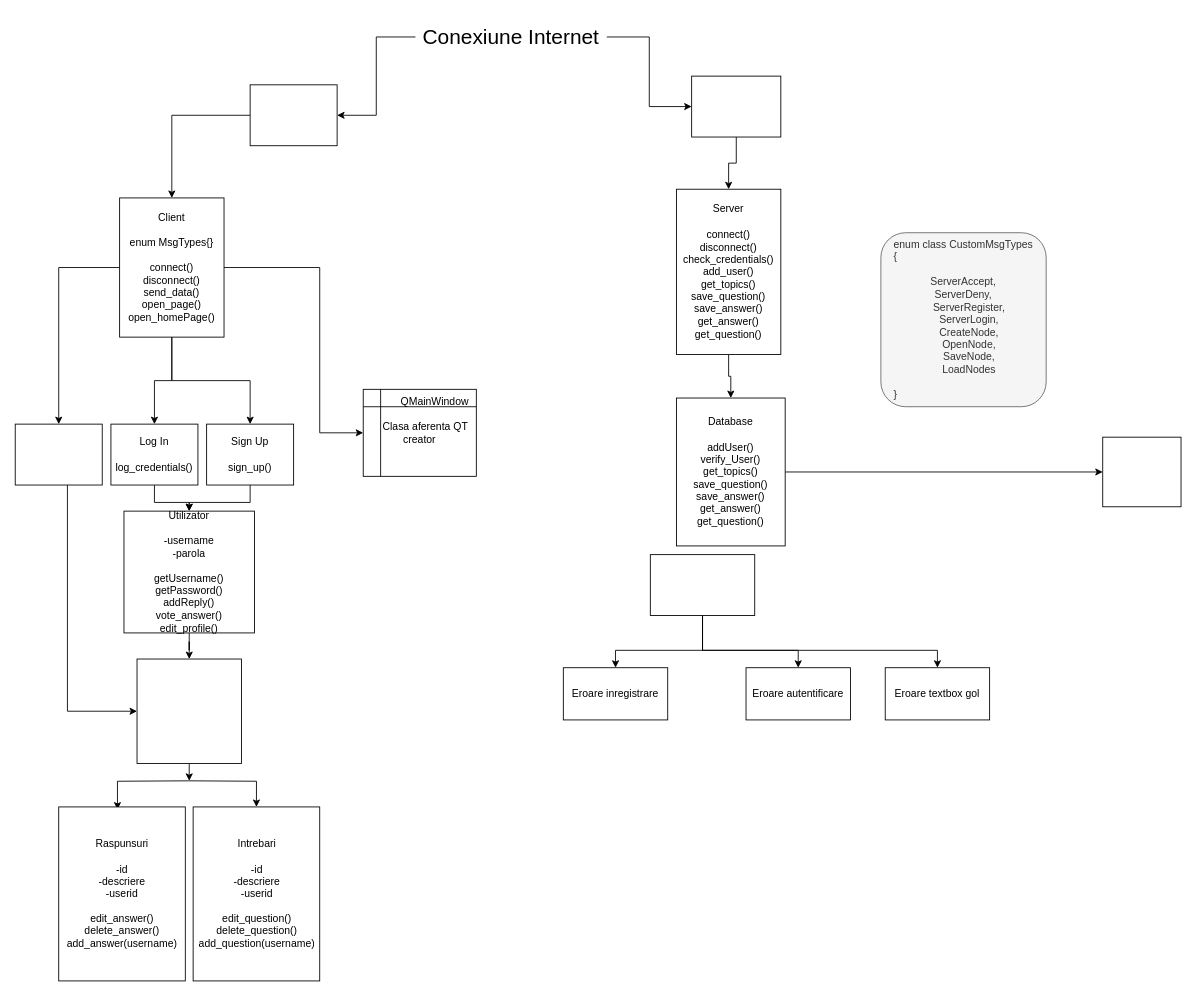
This 1196x996 diagram has some shape labels left out. Each missing label, with the centre of its shape:
Client Interface: point (293, 115)
Exceptii -cod_eroare -mesaj: point (702, 585)
Guest Log In view_topics(): point (58, 454)
Server Interface: point (736, 106)
SQL Database: point (1141, 471)
Topic lista_intrebari show_list() filter() show_number(): point (188, 710)
